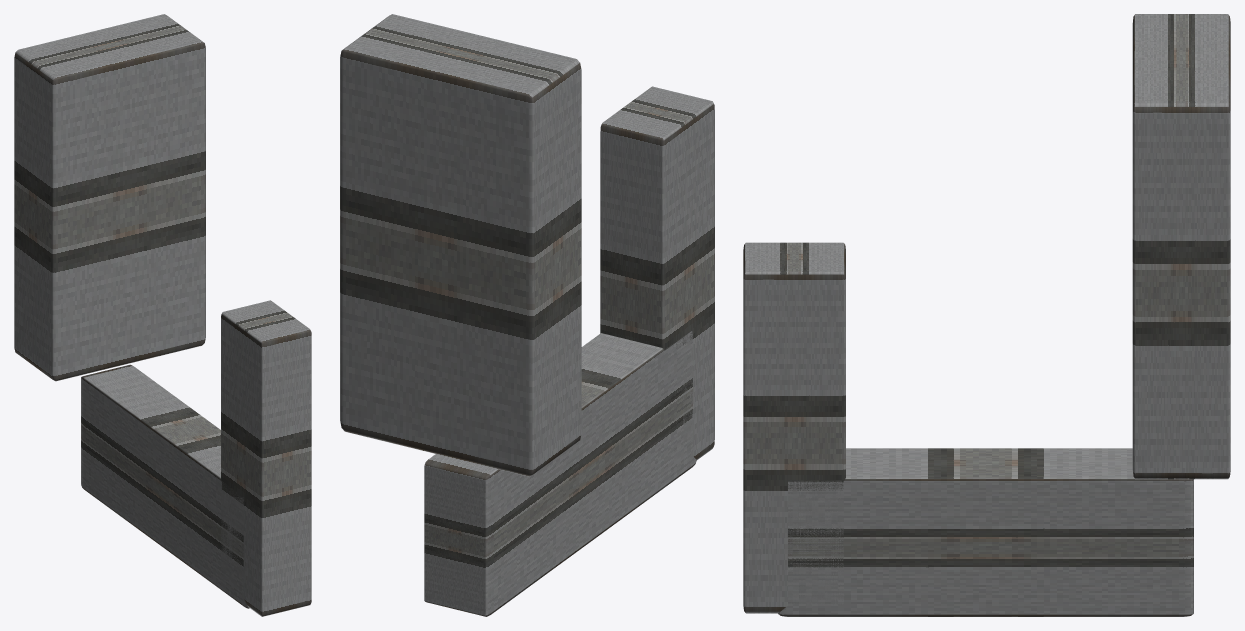
The model's file is coat-hook.glb.
3 views of the same model, side by side, from view 1: azimuth 30°, elevation 25°; view 2: azimuth 150°, elevation 25°; view 3: azimuth 270°, elevation 25° (orthographic). The views are drawn at different scales.
Parts seen in each view (by area): view 1: foot, lip, arm; view 2: foot, arm, lip; view 3: arm, foot, lip.
Boxes of the visible parts, x1,y1,x2,y2 form: foot: [14, 14, 205, 381]; lip: [221, 300, 311, 616]; arm: [81, 364, 249, 608]; foot: [340, 14, 581, 476]; arm: [424, 331, 696, 616]; lip: [600, 86, 714, 462]; arm: [778, 448, 1193, 616]; foot: [1132, 14, 1230, 479]; lip: [743, 242, 845, 613].
Bounding box in the file's own units: 0.0315 × 0.0858 × 0.0697.
Materials: 1 (1 with a texture image).
